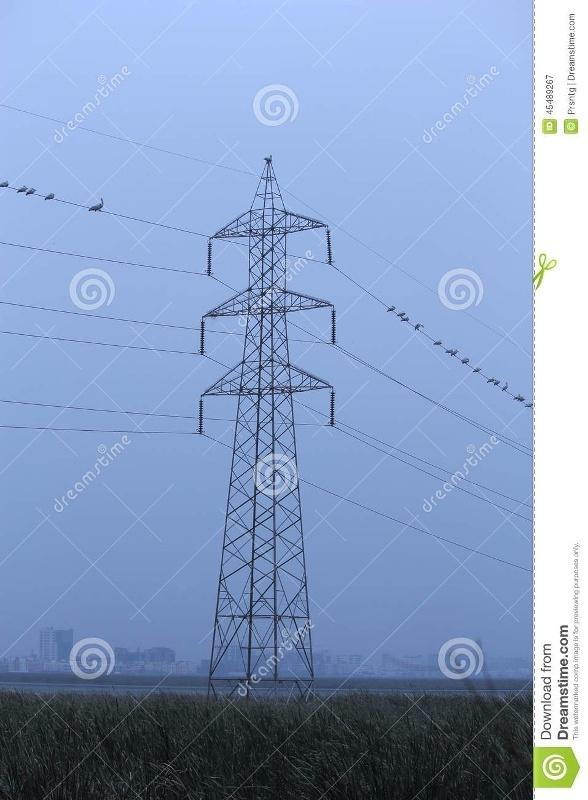power_tower: (196, 152, 331, 699)
